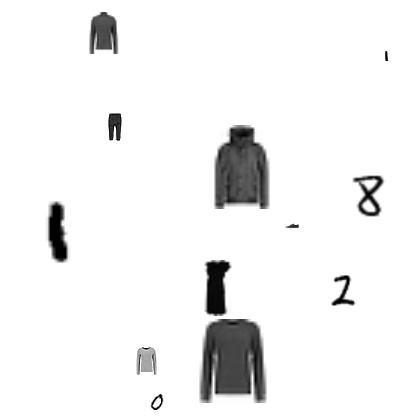0: (146, 391, 168, 413)
1: (13, 190, 97, 274), (379, 49, 393, 63)
2: (321, 271, 363, 313)
8: (341, 166, 397, 222)
Coat: (200, 125, 284, 209)
Dress: (189, 260, 245, 316)
Pullover: (191, 319, 275, 403), (82, 12, 124, 54), (132, 347, 160, 375)
Sneaker: (285, 219, 299, 233)
Trouser: (101, 113, 129, 141)
